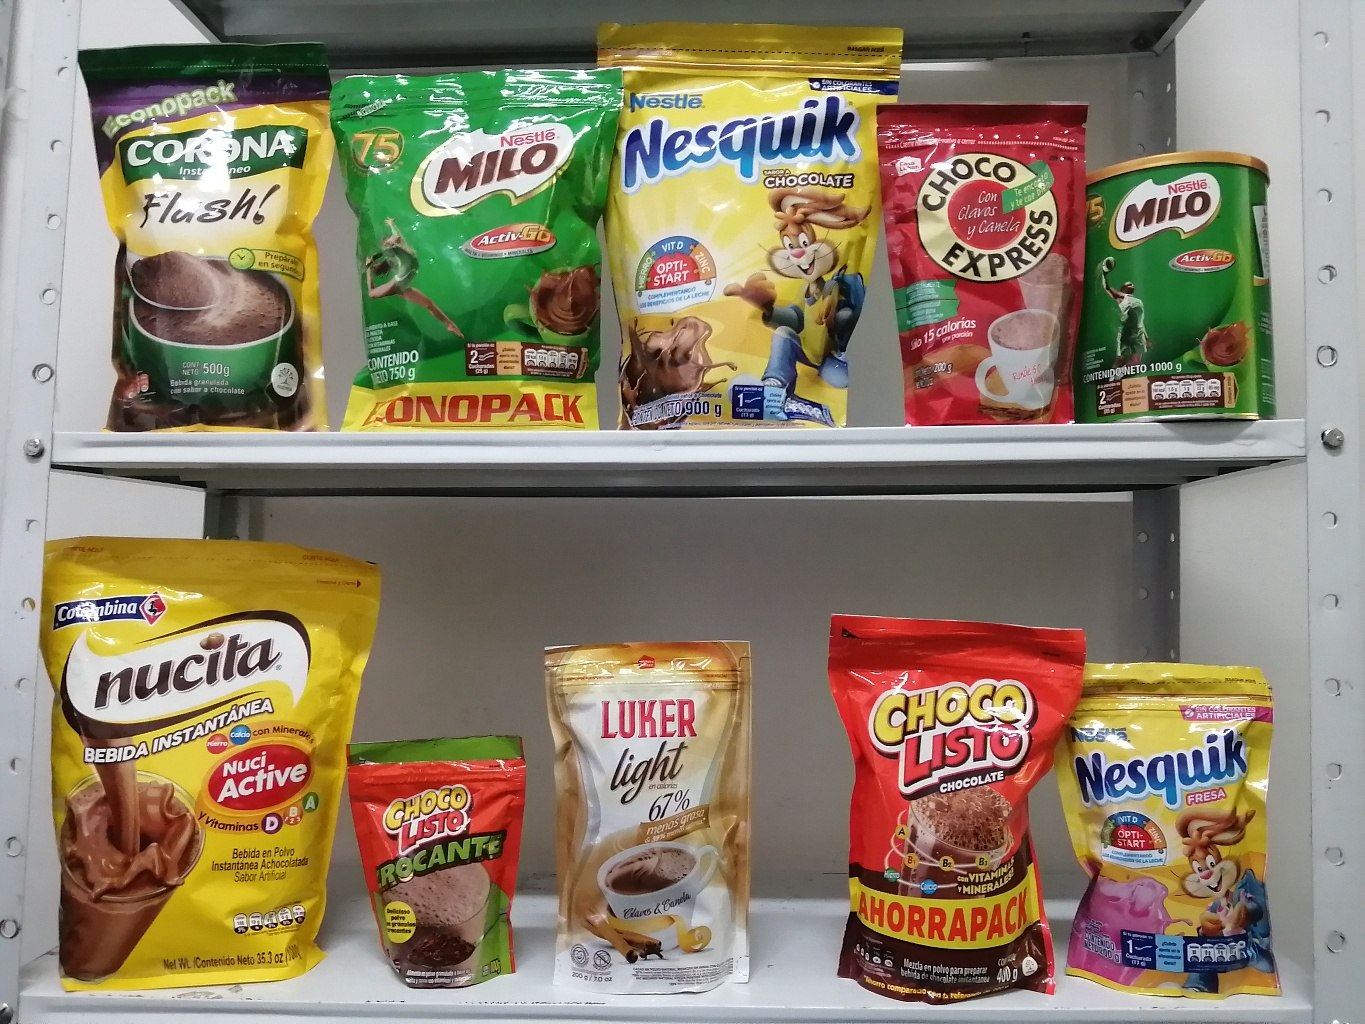COL0170102DYP10000: (331, 729, 542, 992)
COL0170103DYP40000: (806, 608, 1087, 1001)
COL0170305DYP20000: (1073, 644, 1285, 1002)
